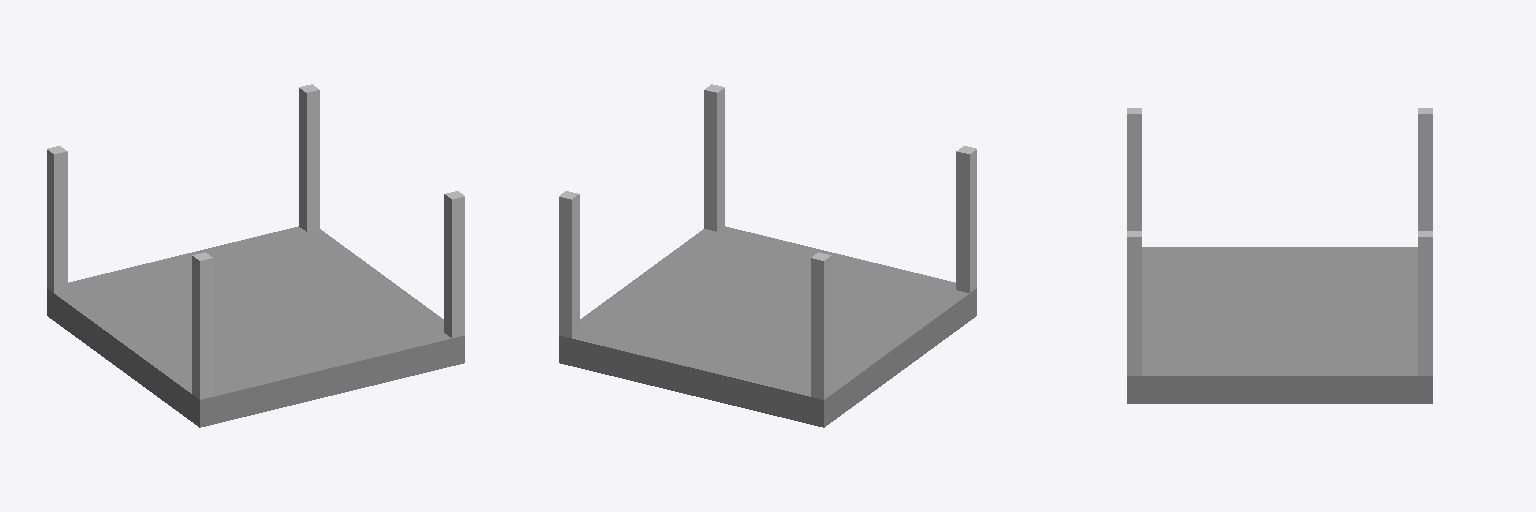
File: floor_with-pillars_1.obj
3 views of the same model, side by side, from view 1: azimuth 30°, elevation 25°; view 2: azimuth 150°, elevation 25°; view 3: azimuth 270°, elevation 25° (orthographic).
Visible parts, largest first — view 1: Cube, Cube.001_Cube.005; view 2: Cube, Cube.001_Cube.005; view 3: Cube, Cube.001_Cube.005.
Boxes of the visible parts, x1,y1,x2,y2 form: Cube: [47, 226, 464, 427]; Cube.001_Cube.005: [47, 84, 464, 399]; Cube: [559, 226, 976, 427]; Cube.001_Cube.005: [559, 84, 976, 399]; Cube: [1127, 247, 1432, 403]; Cube.001_Cube.005: [1127, 108, 1432, 375].
Bounding box in the file's own units: 10 × 6 × 10.